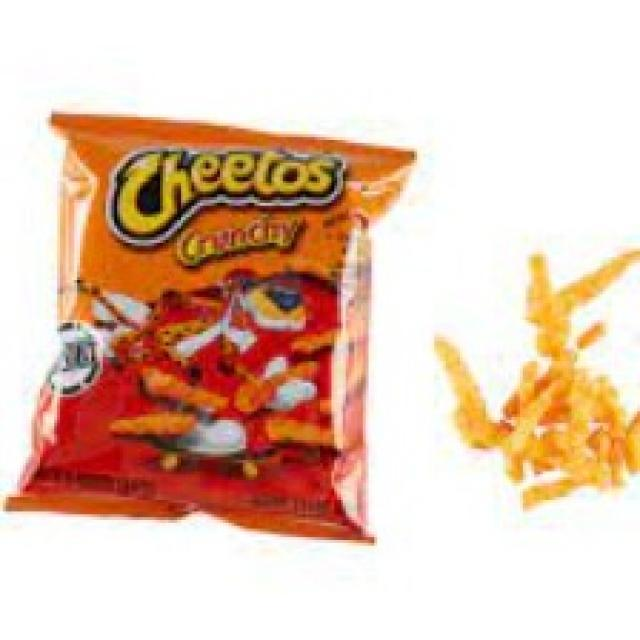plastic: (27, 94, 380, 558)
